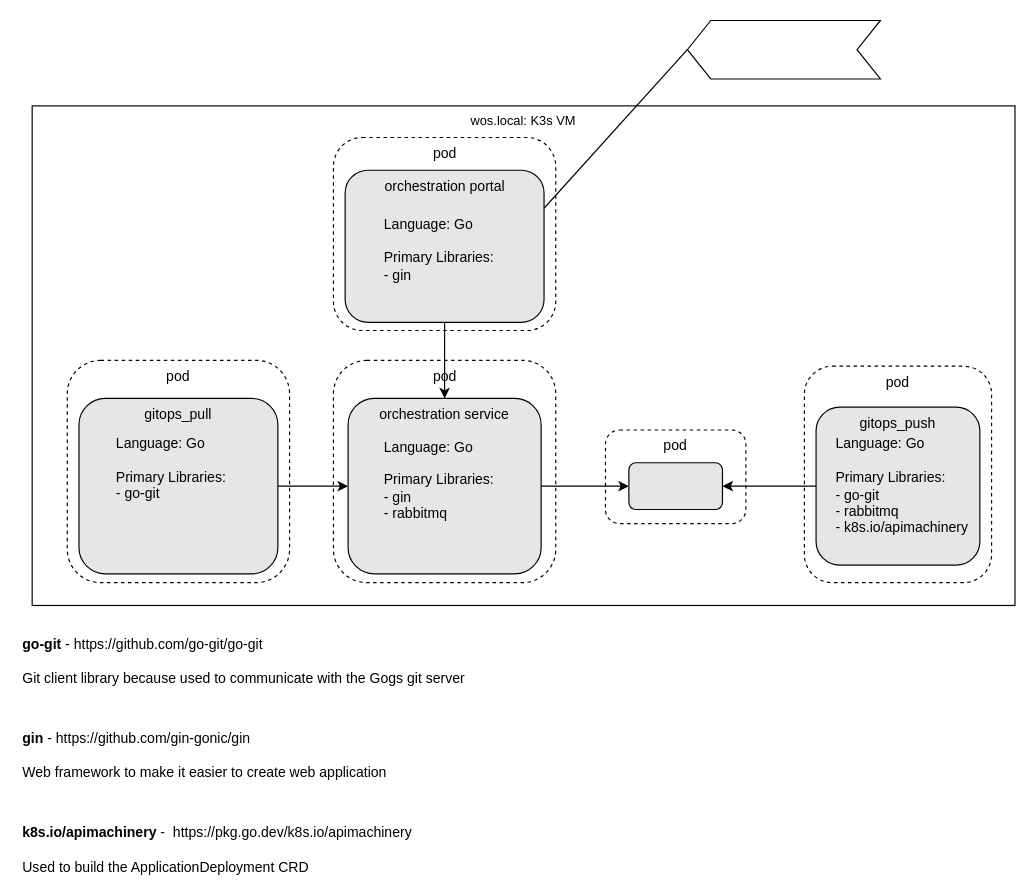
This 1035x896 diagram has some shape labels left out. The centre of each missing label's shape, as x and y in pixels:
rabbitmq: pixel 675 486
uses go templates to generate HTML: pixel 783 49
